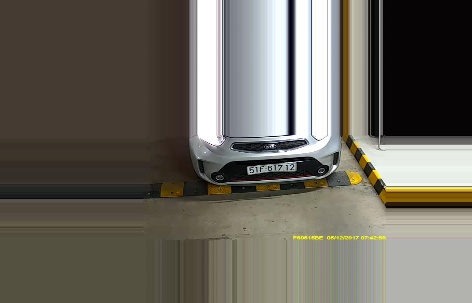plate: (246, 160, 297, 174)
